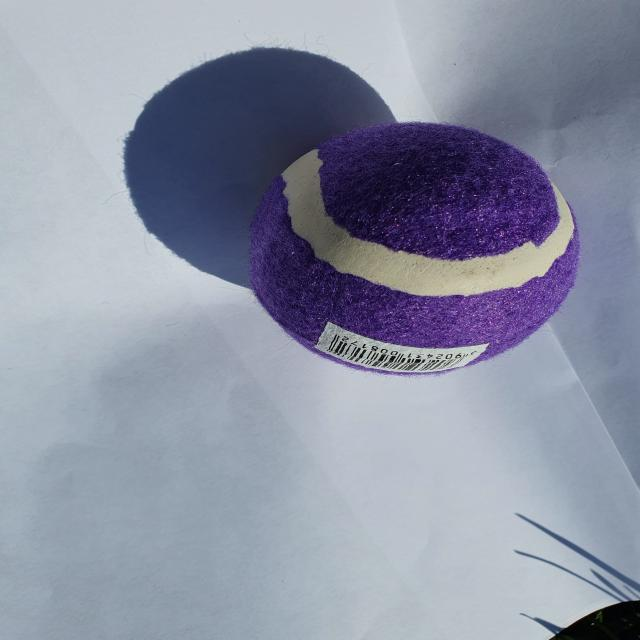purple: (248, 123, 579, 376)
